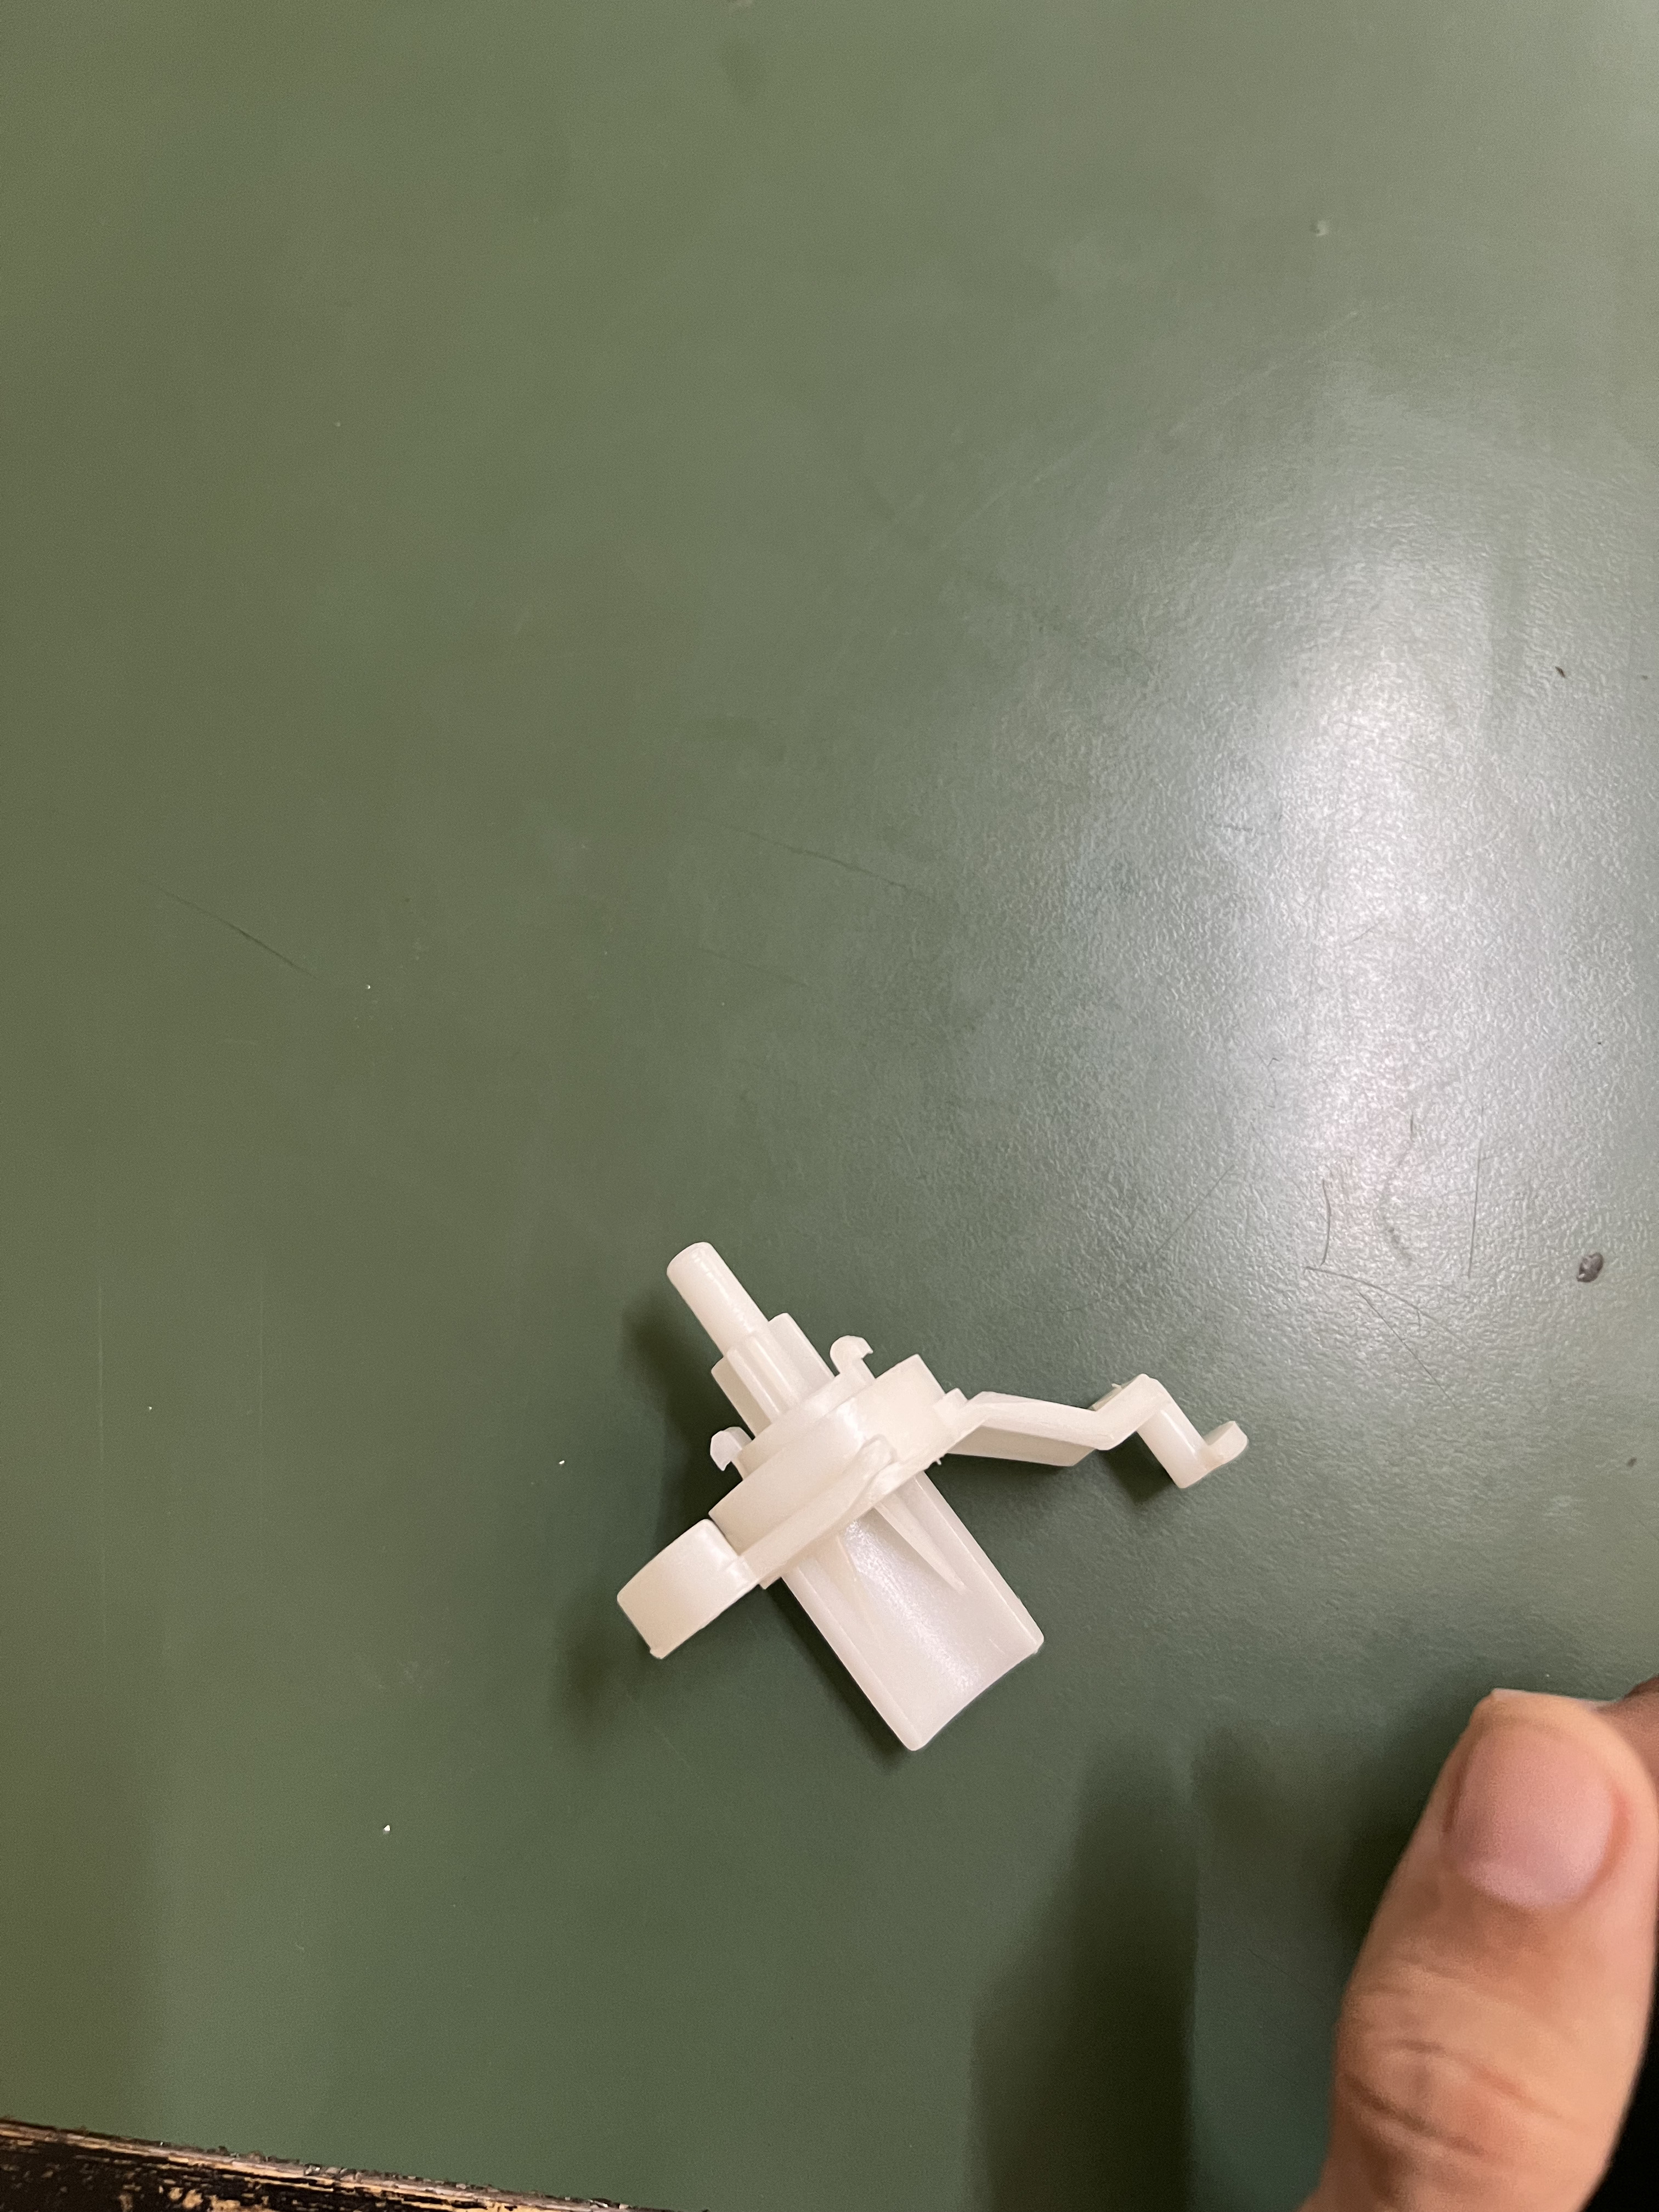drain_lever: (615, 1237, 1260, 1770)
